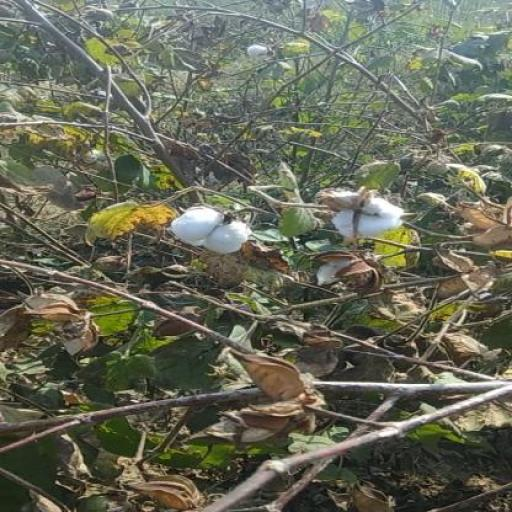cotton_ready: (143, 197, 266, 258), (312, 187, 418, 249)
